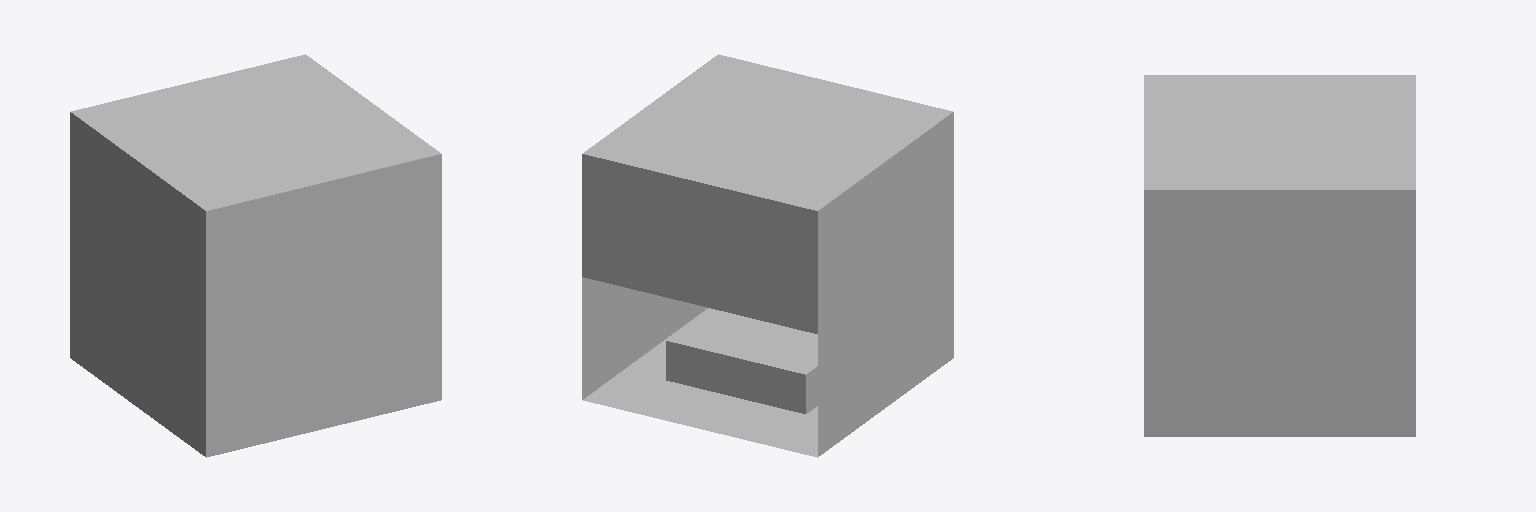
File: cornellLarge.obj
The picture shows the model from 3 angles: view 1: azimuth 30°, elevation 25°; view 2: azimuth 150°, elevation 25°; view 3: azimuth 270°, elevation 25°; orthographic projection.
Parts seen in each view (by area): view 1: Cube.001_Cube.002; view 2: Cube.001_Cube.002, Cube_Cube.001; view 3: Cube.001_Cube.002.
Boxes of the visible parts, <box> form: Cube.001_Cube.002: <box>70,54,441,457</box>; Cube.001_Cube.002: <box>582,54,953,457</box>; Cube_Cube.001: <box>666,308,817,413</box>; Cube.001_Cube.002: <box>1144,75,1415,436</box>.
Bounding box in the file's own units: 11.65 × 11.65 × 11.65.